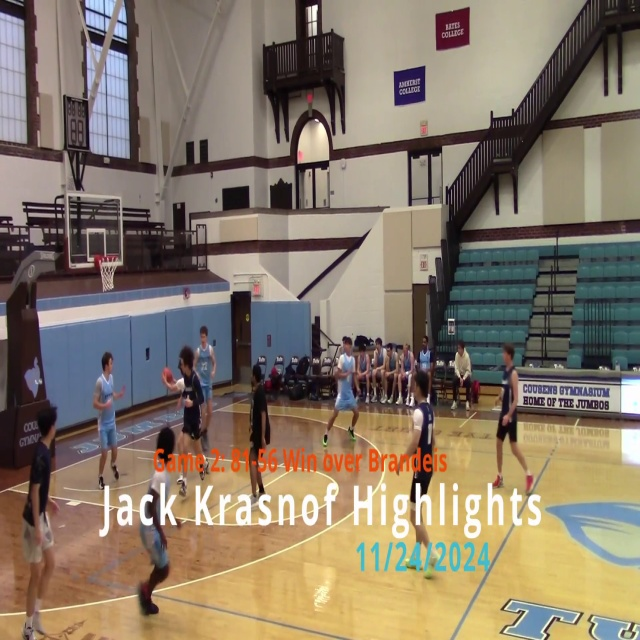Basketball: (162, 367, 173, 385), (175, 378, 185, 391)
